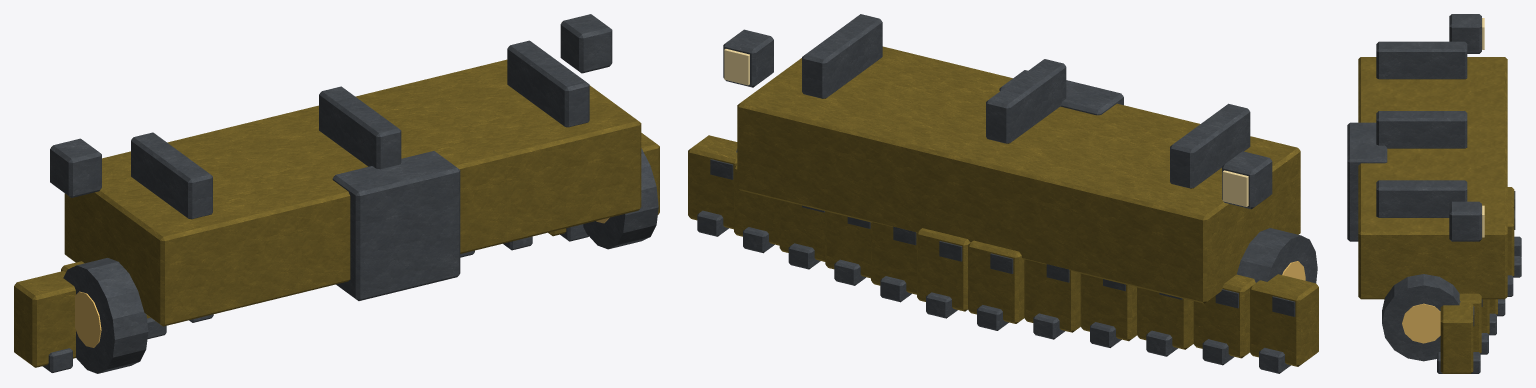
Rendered from train_rail_builder.gltf.
The picture shows the model from 3 angles, left to right: view 1: azimuth 30°, elevation 25°; view 2: azimuth 150°, elevation 25°; view 3: azimuth 270°, elevation 25°; orthographic projection. The views are drawn at different scales.
Bounding box in the file's own units: 3 × 0.92 × 0.9575.
Materials: 5 (3 with a texture image).
